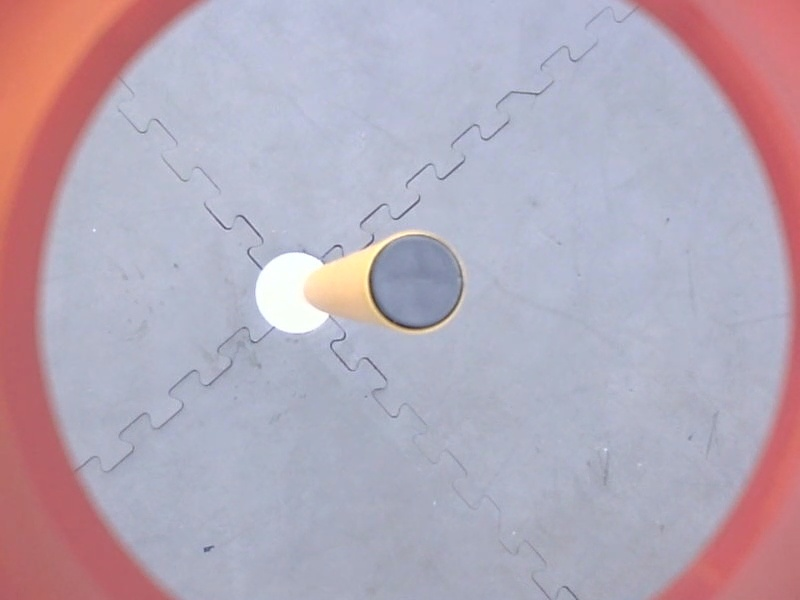tip: (362, 224, 473, 342)
